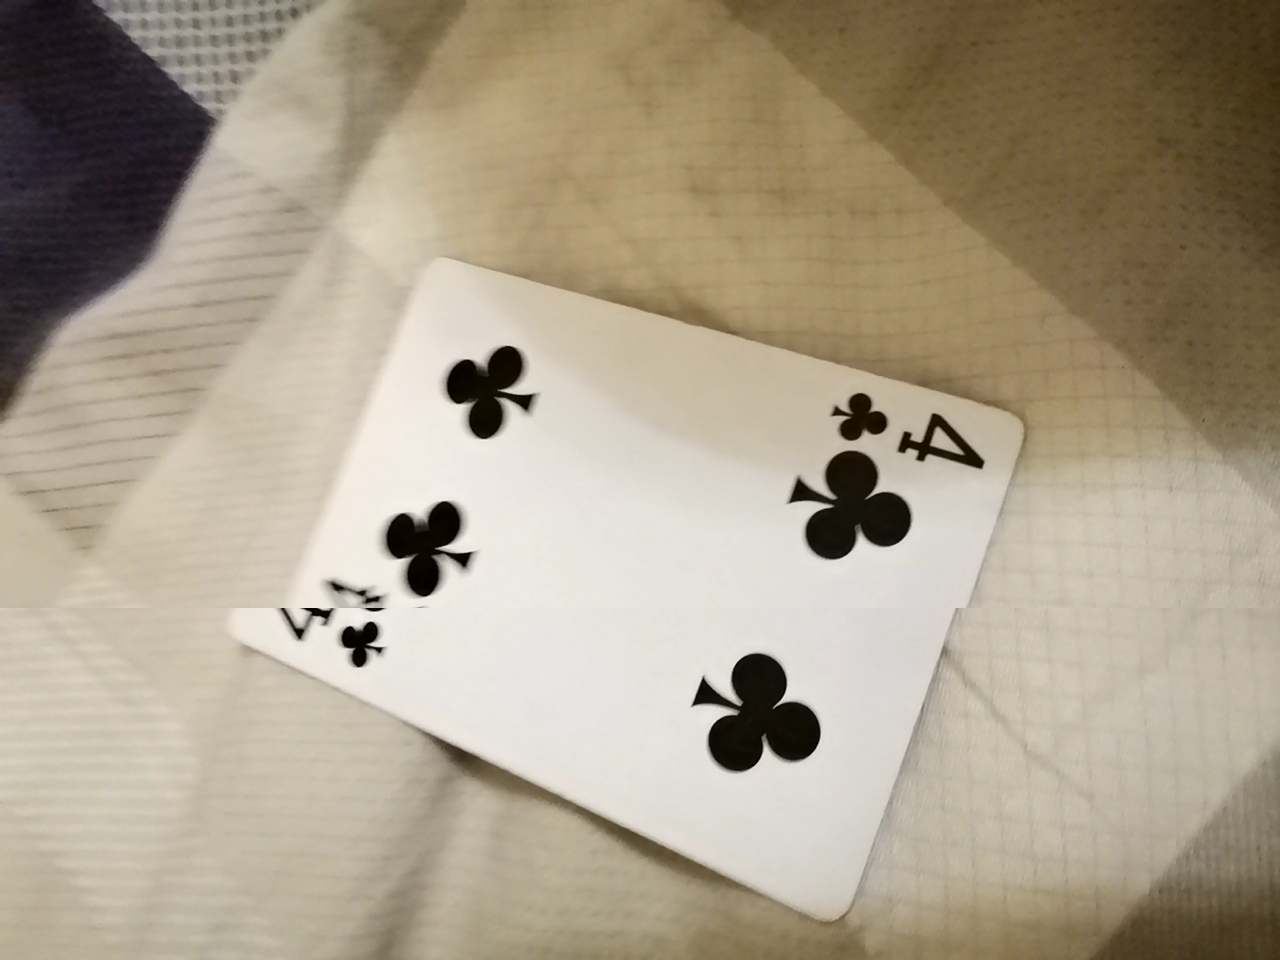mh 4: (266, 248, 1035, 884)
